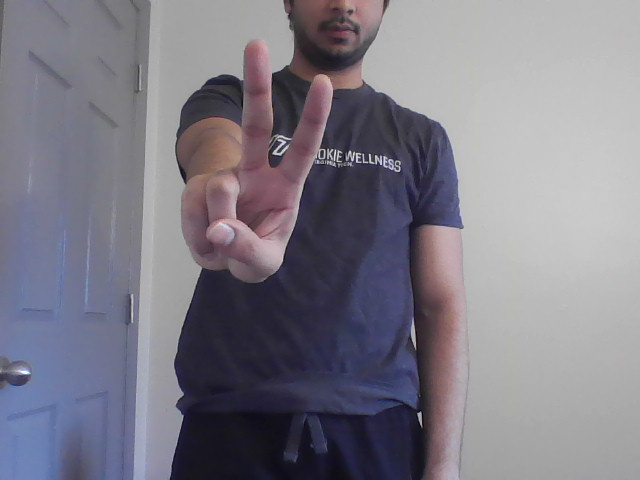two: (181, 34, 336, 289)
